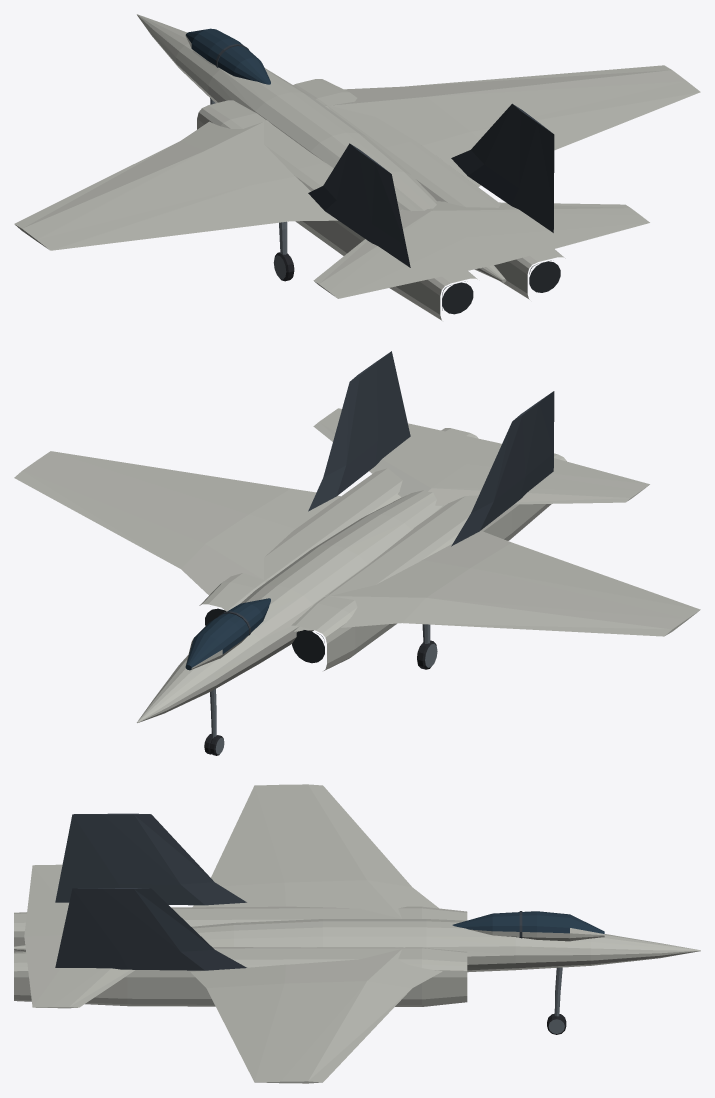
The picture shows the model from 3 angles, top to bottom: view 1: azimuth 30°, elevation 25°; view 2: azimuth 150°, elevation 25°; view 3: azimuth 270°, elevation 25°; orthographic projection. The views are drawn at different scales.
Visible parts, largest first — view 1: airframe, gear; view 2: airframe, gear; view 3: airframe, gear.
Part boxes in pixels (<box>): airframe: <box>14,14,700,320</box>; gear: <box>210,98,294,281</box>; airframe: <box>14,351,700,722</box>; gear: <box>204,624,437,755</box>; airframe: <box>14,784,700,1083</box>; gear: <box>547,967,566,1034</box>.
Size of the model in its own units: 19.54 by 5.57 by 19.1.
